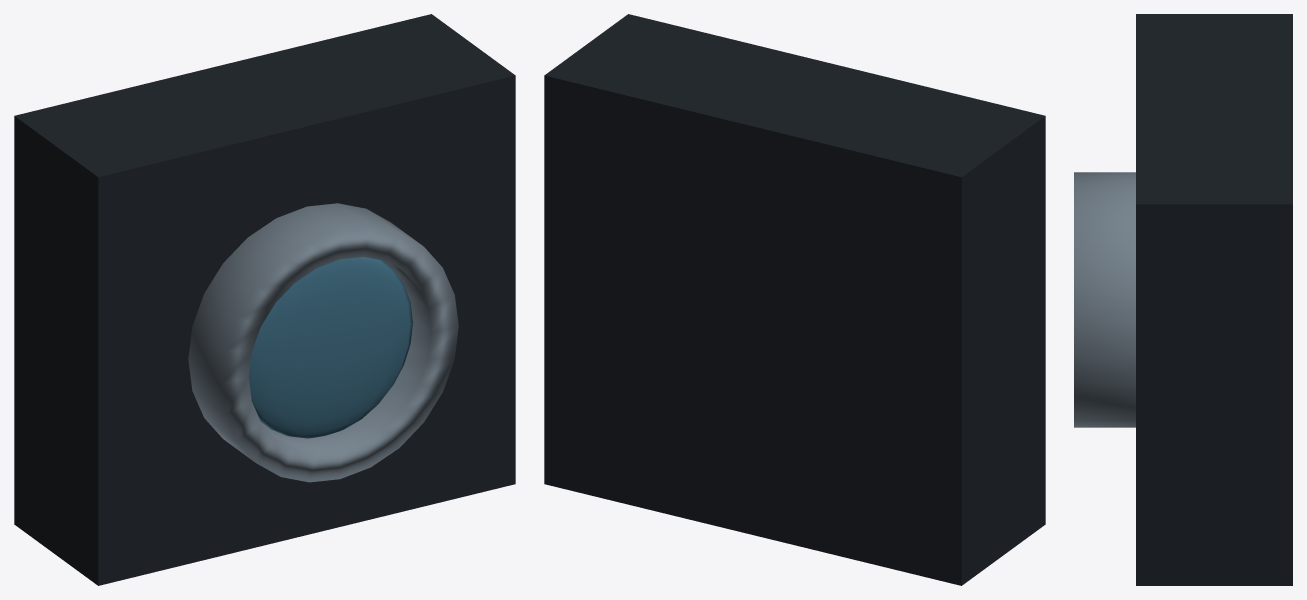
Rendered from curiosity_body.rear_equipment.hazcam_01.glb.
The picture shows the model from 3 angles, left to right: view 1: azimuth 30°, elevation 25°; view 2: azimuth 150°, elevation 25°; view 3: azimuth 270°, elevation 25°; orthographic projection. The views are drawn at different scales.
Visible parts, largest first — view 1: curiosity_body.rear_equipment.hazcam_01.mesh_Carbon_composit, curiosity_body.rear_equipment.hazcam_01.mesh_Machined_steel, curiosity_body.rear_equipment.hazcam_01.lens.mesh_Coated_opt; view 2: curiosity_body.rear_equipment.hazcam_01.mesh_Carbon_composit; view 3: curiosity_body.rear_equipment.hazcam_01.mesh_Carbon_composit, curiosity_body.rear_equipment.hazcam_01.mesh_Machined_steel.
Part boxes in pixels (bbox=[...]): curiosity_body.rear_equipment.hazcam_01.mesh_Carbon_composit: bbox=[14, 14, 515, 585]; curiosity_body.rear_equipment.hazcam_01.mesh_Machined_steel: bbox=[188, 203, 458, 482]; curiosity_body.rear_equipment.hazcam_01.lens.mesh_Coated_opt: bbox=[248, 257, 412, 438]; curiosity_body.rear_equipment.hazcam_01.mesh_Carbon_composit: bbox=[544, 14, 1045, 585]; curiosity_body.rear_equipment.hazcam_01.mesh_Carbon_composit: bbox=[1136, 14, 1292, 585]; curiosity_body.rear_equipment.hazcam_01.mesh_Machined_steel: bbox=[1074, 172, 1135, 427].
Size of the model in its own units: 0.109 by 0.102 by 0.053.
